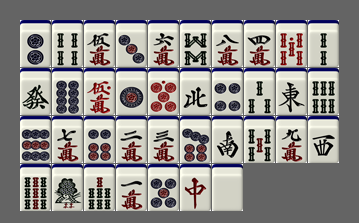0m: (84, 68, 115, 115)
0p: (148, 68, 179, 115)
0s: (276, 20, 307, 67)
1m: (116, 164, 147, 211)
1p: (116, 68, 147, 115)
1s: (52, 164, 83, 211)
1z: (276, 68, 307, 115)
2m: (116, 116, 147, 163)
2p: (20, 20, 51, 67)
2s: (308, 20, 339, 67)
2z: (212, 116, 243, 163)
3m: (148, 116, 179, 163)
3p: (116, 20, 147, 67)
3s: (244, 68, 275, 115)
3z: (308, 116, 339, 163)
4m: (244, 20, 275, 67)
4p: (212, 68, 243, 115)
4s: (52, 20, 83, 67)
4z: (180, 68, 211, 115)
5m: (84, 20, 115, 67)
5p: (148, 164, 179, 211)
5s: (244, 116, 275, 163)
5z: (212, 164, 243, 211)
6m: (148, 20, 179, 67)
6p: (84, 116, 115, 163)
6s: (308, 68, 339, 115)
6z: (20, 68, 51, 115)
7m: (52, 116, 83, 163)
7p: (180, 116, 211, 163)
7s: (84, 164, 115, 211)
7z: (180, 164, 211, 211)
8m: (212, 20, 243, 67)
8p: (52, 68, 83, 115)
8s: (180, 20, 211, 67)
9m: (276, 116, 307, 163)
9p: (20, 116, 51, 163)
9s: (20, 164, 51, 211)
